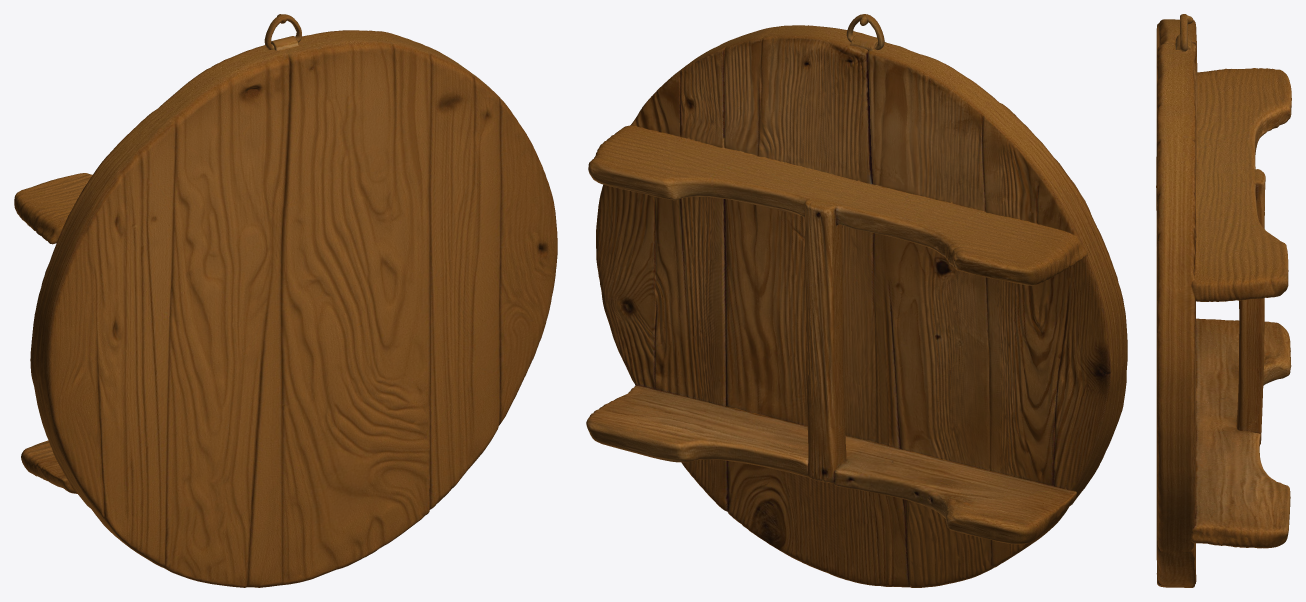
Rendered from sofra.glb.
The picture shows the model from 3 angles, left to right: view 1: azimuth 30°, elevation 25°; view 2: azimuth 150°, elevation 25°; view 3: azimuth 270°, elevation 25°; orthographic projection. The views are drawn at different scales.
Bounding box in the file's own units: 1.82 × 1.9 × 0.429.
1 material, 1 textured.
